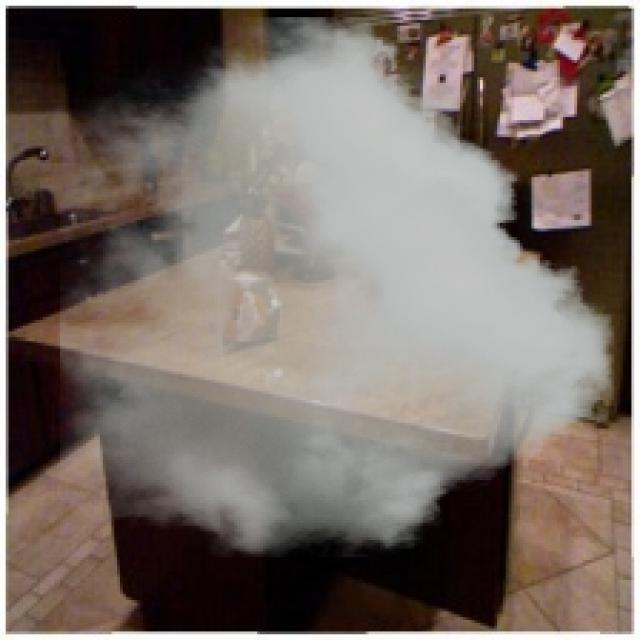Smoke: (60, 17, 614, 557)
